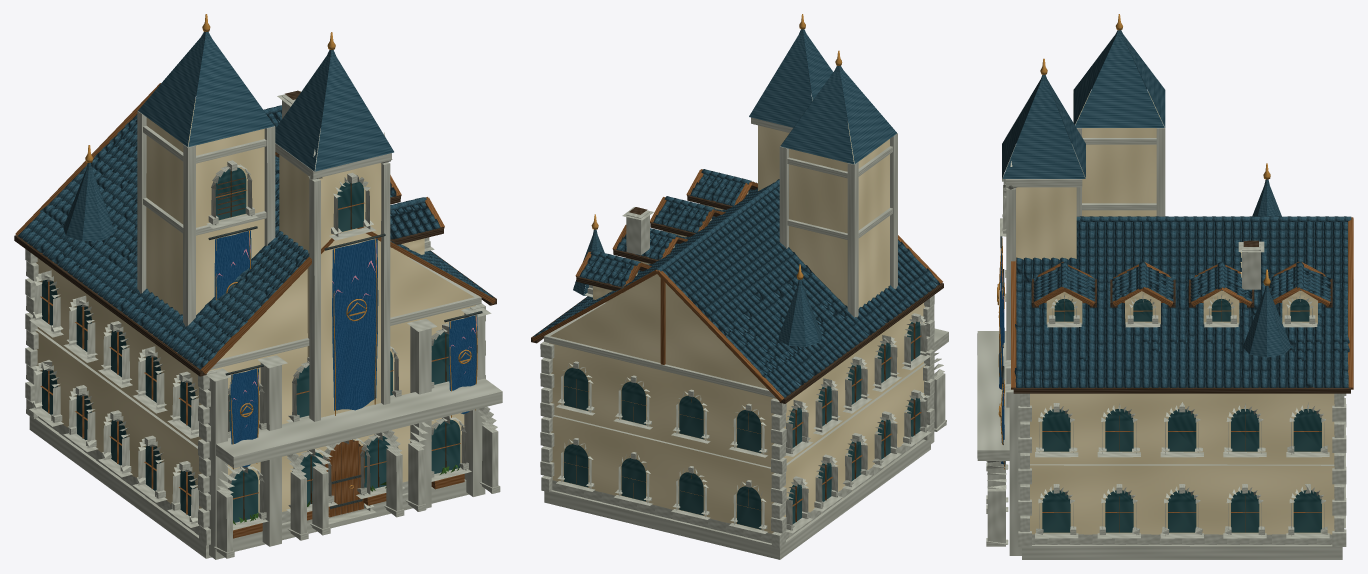
Rendered from adventurers_guild.glb.
3 views of the same model, side by side, from view 1: azimuth 30°, elevation 25°; view 2: azimuth 150°, elevation 25°; view 3: azimuth 270°, elevation 25° (orthographic). The views are drawn at different scales.
Visible parts, largest first — view 1: adventurers_guild_Structure.002, adventurers_guild_Roof.002, adventurers_guild_Detail.002, adventurers_guild_Cloth.002, adventurers_guild_Glazing.002, adventurers_guild_Joinery.002, adventurers_guild_Metalwork.002; view 2: adventurers_guild_Structure.002, adventurers_guild_Roof.002, adventurers_guild_Detail.002, adventurers_guild_Glazing.002, adventurers_guild_Joinery.002; view 3: adventurers_guild_Structure.002, adventurers_guild_Roof.002, adventurers_guild_Glazing.002, adventurers_guild_Detail.002, adventurers_guild_Joinery.002, adventurers_guild_Metalwork.002, adventurers_guild_Cloth.002.
Boxes of the visible parts, left/top/right/bottom form: adventurers_guild_Structure.002: left=25, top=90, right=502, bottom=559; adventurers_guild_Roof.002: left=18, top=31, right=493, bottom=369; adventurers_guild_Detail.002: left=29, top=160, right=500, bottom=558; adventurers_guild_Cloth.002: left=214, top=230, right=477, bottom=467; adventurers_guild_Glazing.002: left=42, top=167, right=460, bottom=522; adventurers_guild_Joinery.002: left=14, top=83, right=496, bottom=538; adventurers_guild_Metalwork.002: left=85, top=14, right=482, bottom=508; adventurers_guild_Structure.002: left=540, top=96, right=948, bottom=559; adventurers_guild_Roof.002: left=534, top=29, right=940, bottom=398; adventurers_guild_Detail.002: left=556, top=203, right=946, bottom=533; adventurers_guild_Glazing.002: left=564, top=321, right=920, bottom=529; adventurers_guild_Joinery.002: left=531, top=169, right=943, bottom=521; adventurers_guild_Structure.002: left=977, top=90, right=1346, bottom=559; adventurers_guild_Roof.002: left=1002, top=30, right=1351, bottom=387; adventurers_guild_Glazing.002: left=1042, top=299, right=1321, bottom=532; adventurers_guild_Detail.002: left=986, top=173, right=1345, bottom=546; adventurers_guild_Joinery.002: left=1011, top=217, right=1353, bottom=532; adventurers_guild_Metalwork.002: left=997, top=14, right=1270, bottom=469; adventurers_guild_Cloth.002: left=999, top=248, right=1005, bottom=464.
Size of the model in its own units: 9.93 by 15.73 by 11.97.
4 materials, 4 textured.
